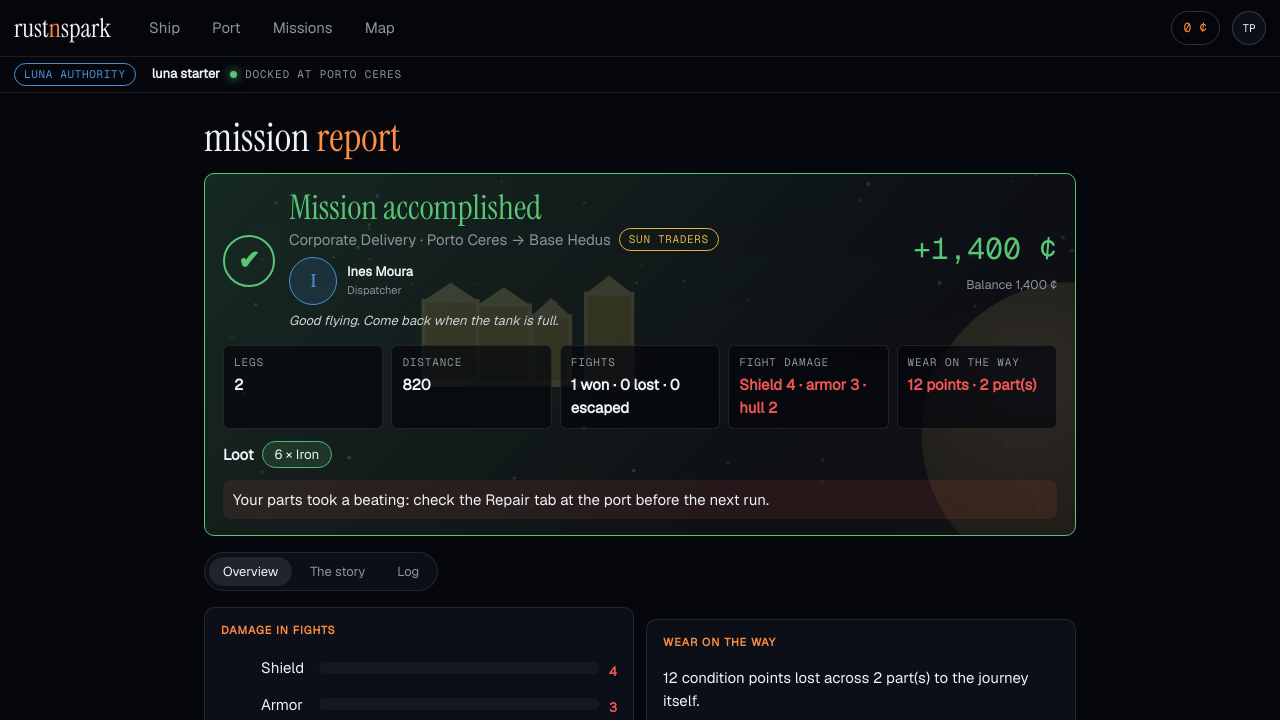
Test: report (S10.8) › renders the raw log view
Click the tab "Log" at (408, 571), box left=383, top=557, right=433, bottom=586
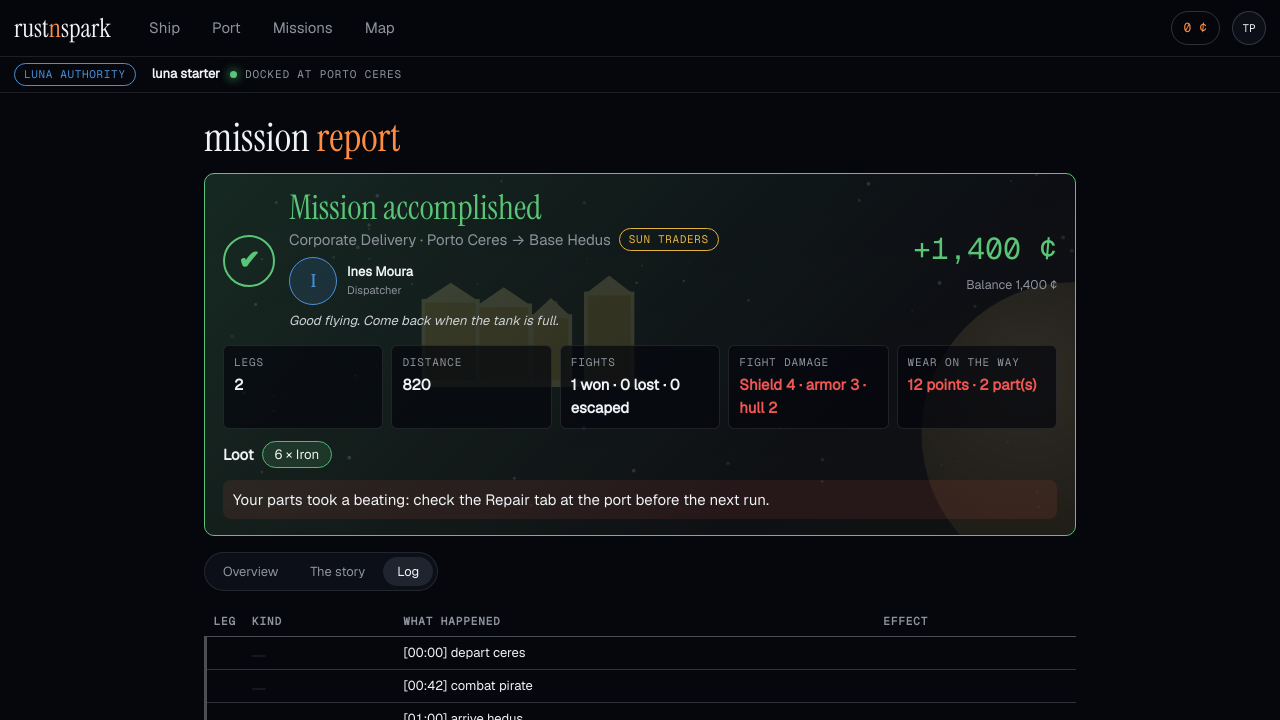
Now the text "[00:42] combat pirate" is shown, box left=403, top=677, right=533, bottom=694
Now the text "[00:00] depart ceres" is shown, box left=403, top=644, right=526, bottom=661
